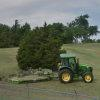Tractor: (52, 47, 98, 92)
